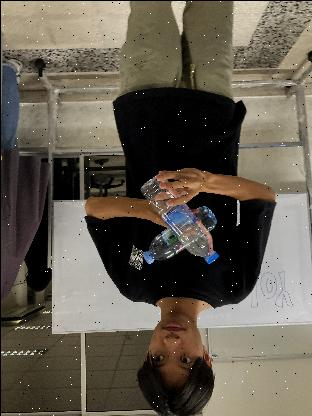Plastic Bottle: (140, 172, 218, 264), (141, 204, 215, 262)
